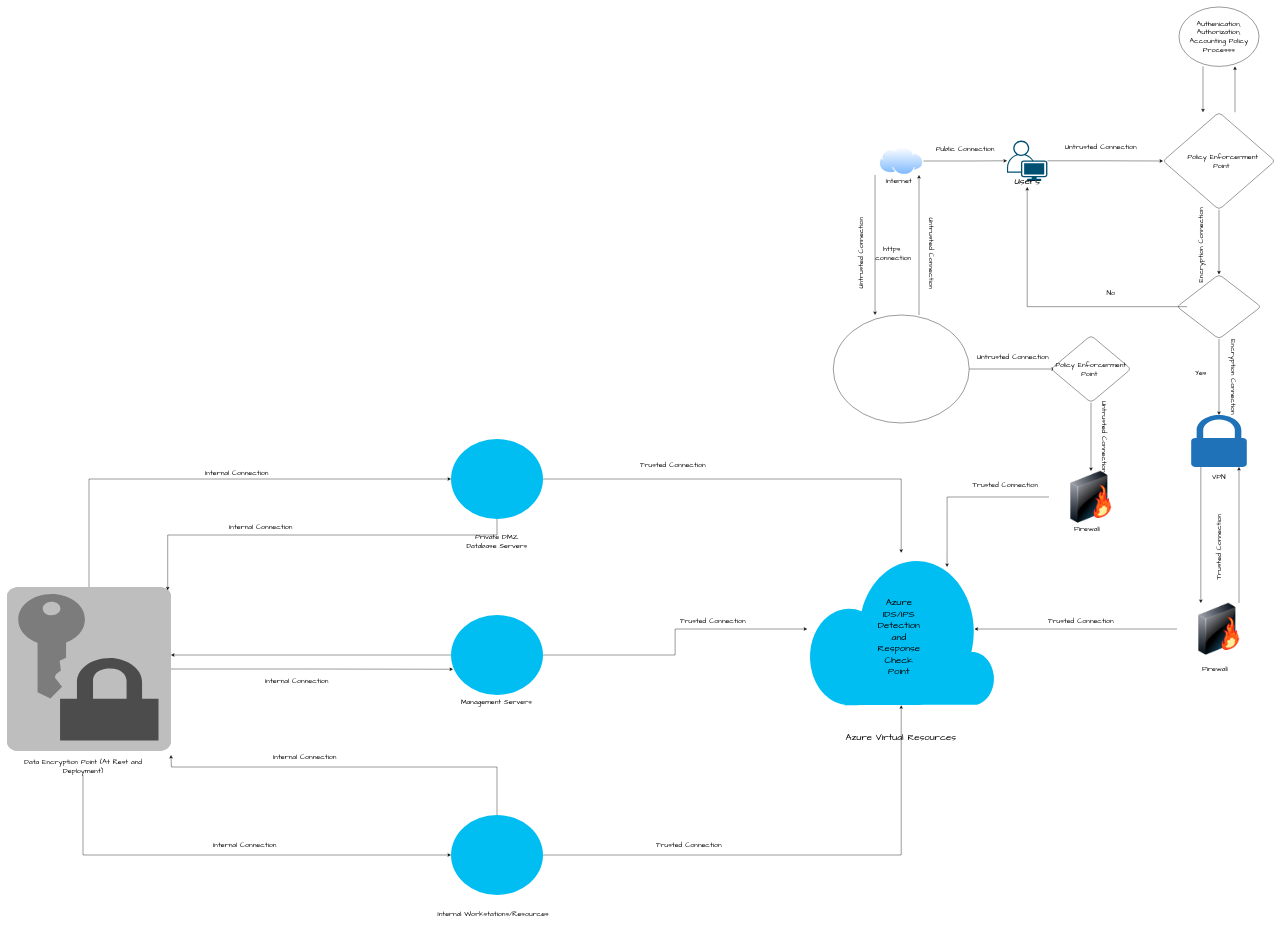
This 1282x934 diagram has some shape labels left out. The shapes that lost their labels are listed below. From the top down, each one's centre as x and y in pixels, then its label:
(1219,306): Access
(901,369): Public Zone Point (Web Servers)
